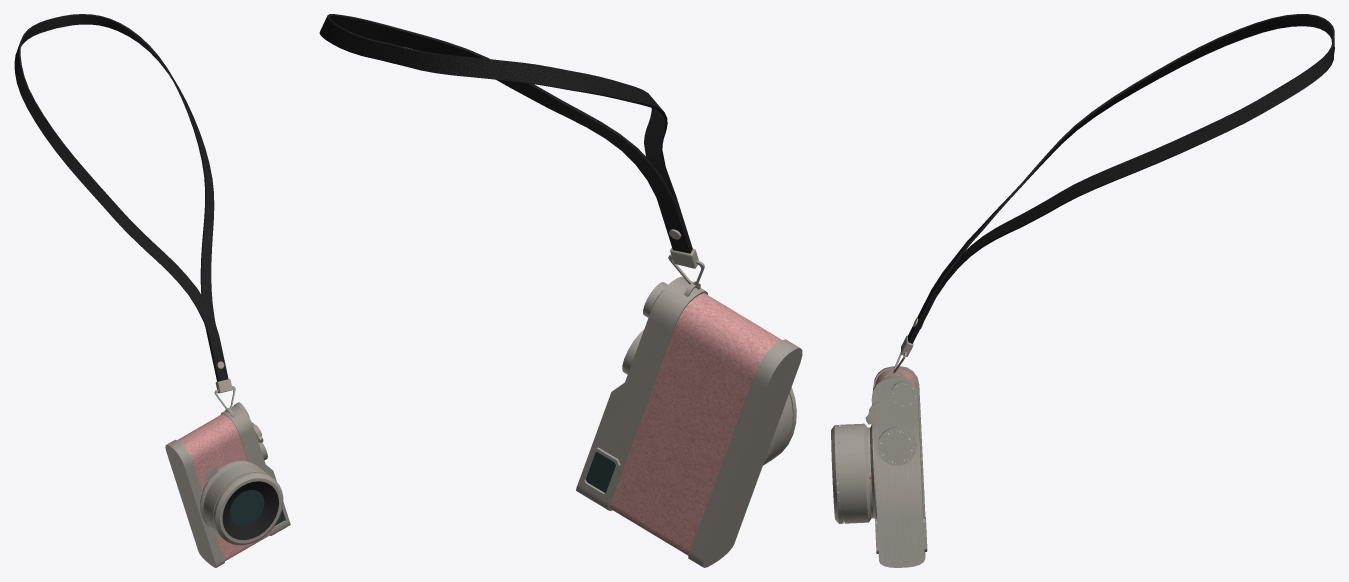
File: camera-pink.glb
3 views of the same model, side by side, from view 1: azimuth 30°, elevation 25°; view 2: azimuth 150°, elevation 25°; view 3: azimuth 270°, elevation 25° (orthographic). The views are drawn at different scales.
Parts seen in each view (by area): view 1: Camera_body, CameraStrap; view 2: Camera_body, CameraStrap; view 3: Camera_body, CameraStrap.
Part boxes in pixels (x1,y1,x2,y2): Camera_body: [165, 402, 290, 567]; CameraStrap: [14, 14, 235, 410]; Camera_body: [576, 276, 802, 567]; CameraStrap: [319, 14, 704, 286]; Camera_body: [831, 366, 927, 567]; CameraStrap: [893, 14, 1334, 373].
Bounding box in the file's own units: 0.1255 × 0.3488 × 0.3011.
3 materials, 2 textured.
